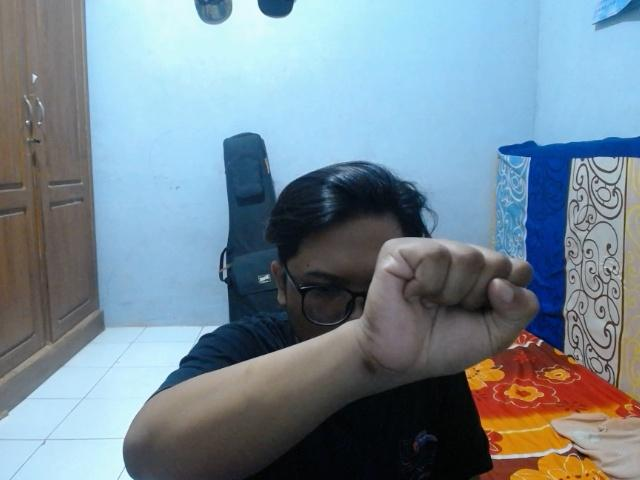Grab: (358, 232, 543, 384)
